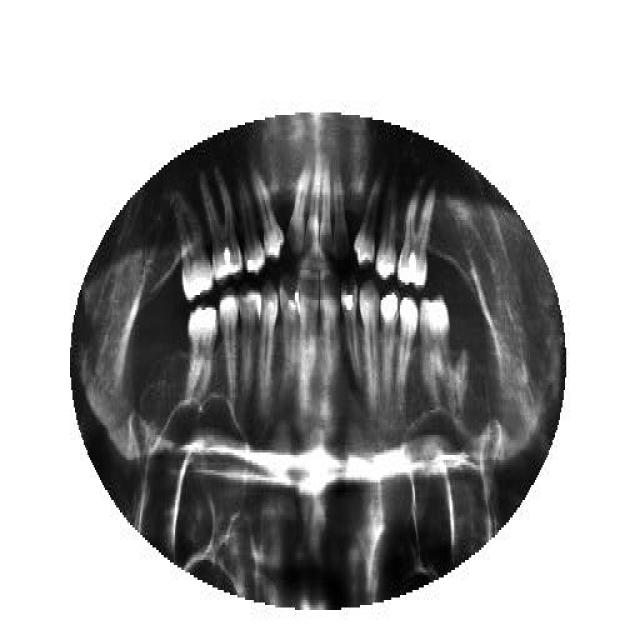Fillings: (200, 170, 241, 285), (395, 190, 434, 288)
